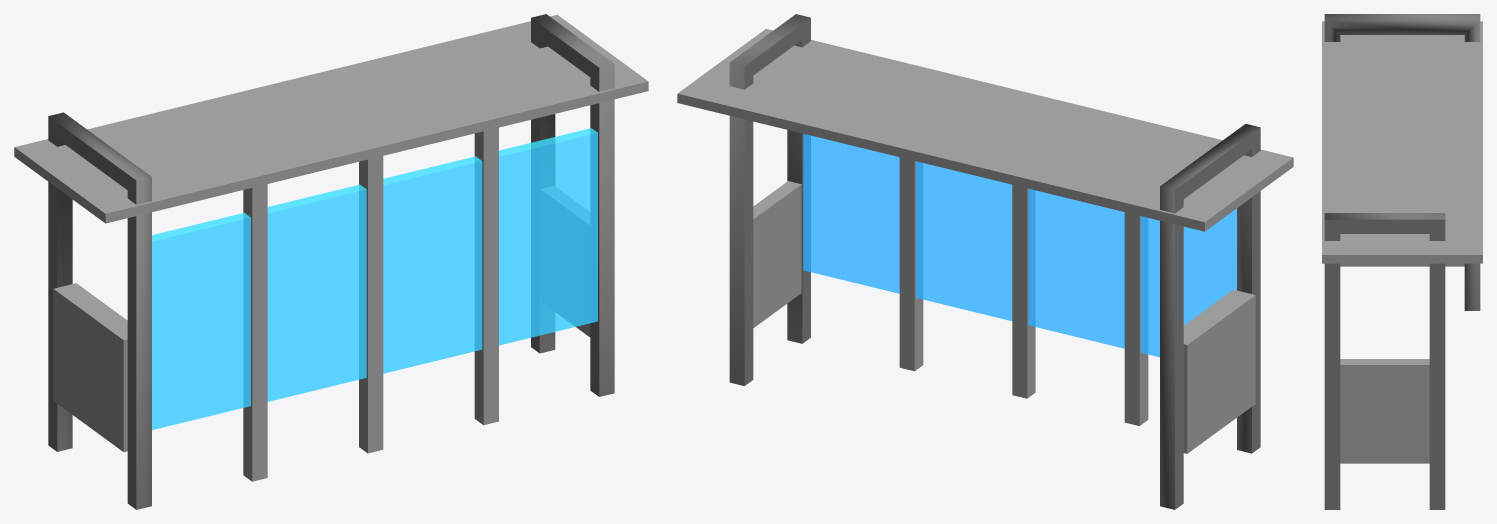
Rendered from busstops.glb.
3 views of the same model, side by side, from view 1: azimuth 30°, elevation 25°; view 2: azimuth 150°, elevation 25°; view 3: azimuth 270°, elevation 25° (orthographic). The views are drawn at different scales.
Parts seen in each view (by area): view 1: Root; view 2: Root; view 3: Root.
Part boxes in pixels (bbox=[...]): Root: bbox=[14, 14, 648, 509]; Root: bbox=[677, 14, 1293, 509]; Root: bbox=[1322, 14, 1482, 509].
Bounding box in the file's own units: 3.52 × 2.04 × 1.02.
